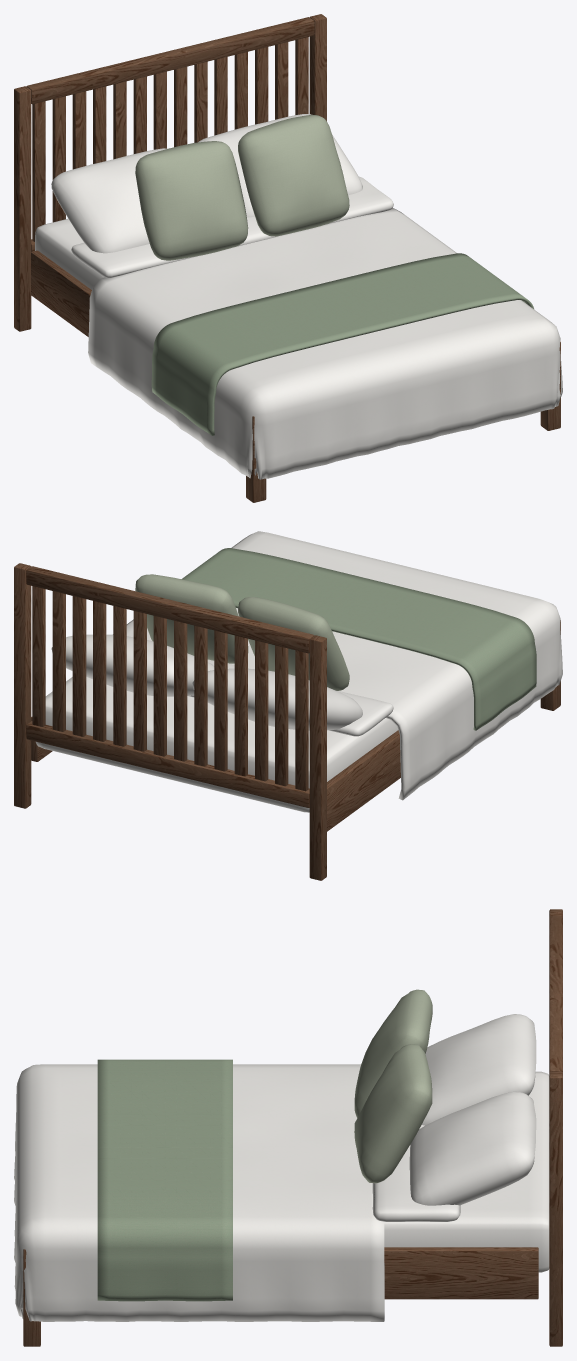
The model's file is cama_listones_135.glb.
3 renders of one model, top to bottom at view 1: azimuth 30°, elevation 25°; view 2: azimuth 150°, elevation 25°; view 3: azimuth 270°, elevation 25°, orthographic. The views are drawn at different scales.
Parts seen in each view (by area): view 1: cama_listones_135; view 2: cama_listones_135; view 3: cama_listones_135.
Boxes of the visible parts, x1=… form: cama_listones_135: x1=14, y1=14, x2=562, y2=502; cama_listones_135: x1=14, y1=531, x2=562, y2=880; cama_listones_135: x1=14, y1=909, x2=562, y2=1346.
Size of the model in its own units: 1.57 by 1.1 by 2.03.
Materials: 4 (4 with a texture image).
